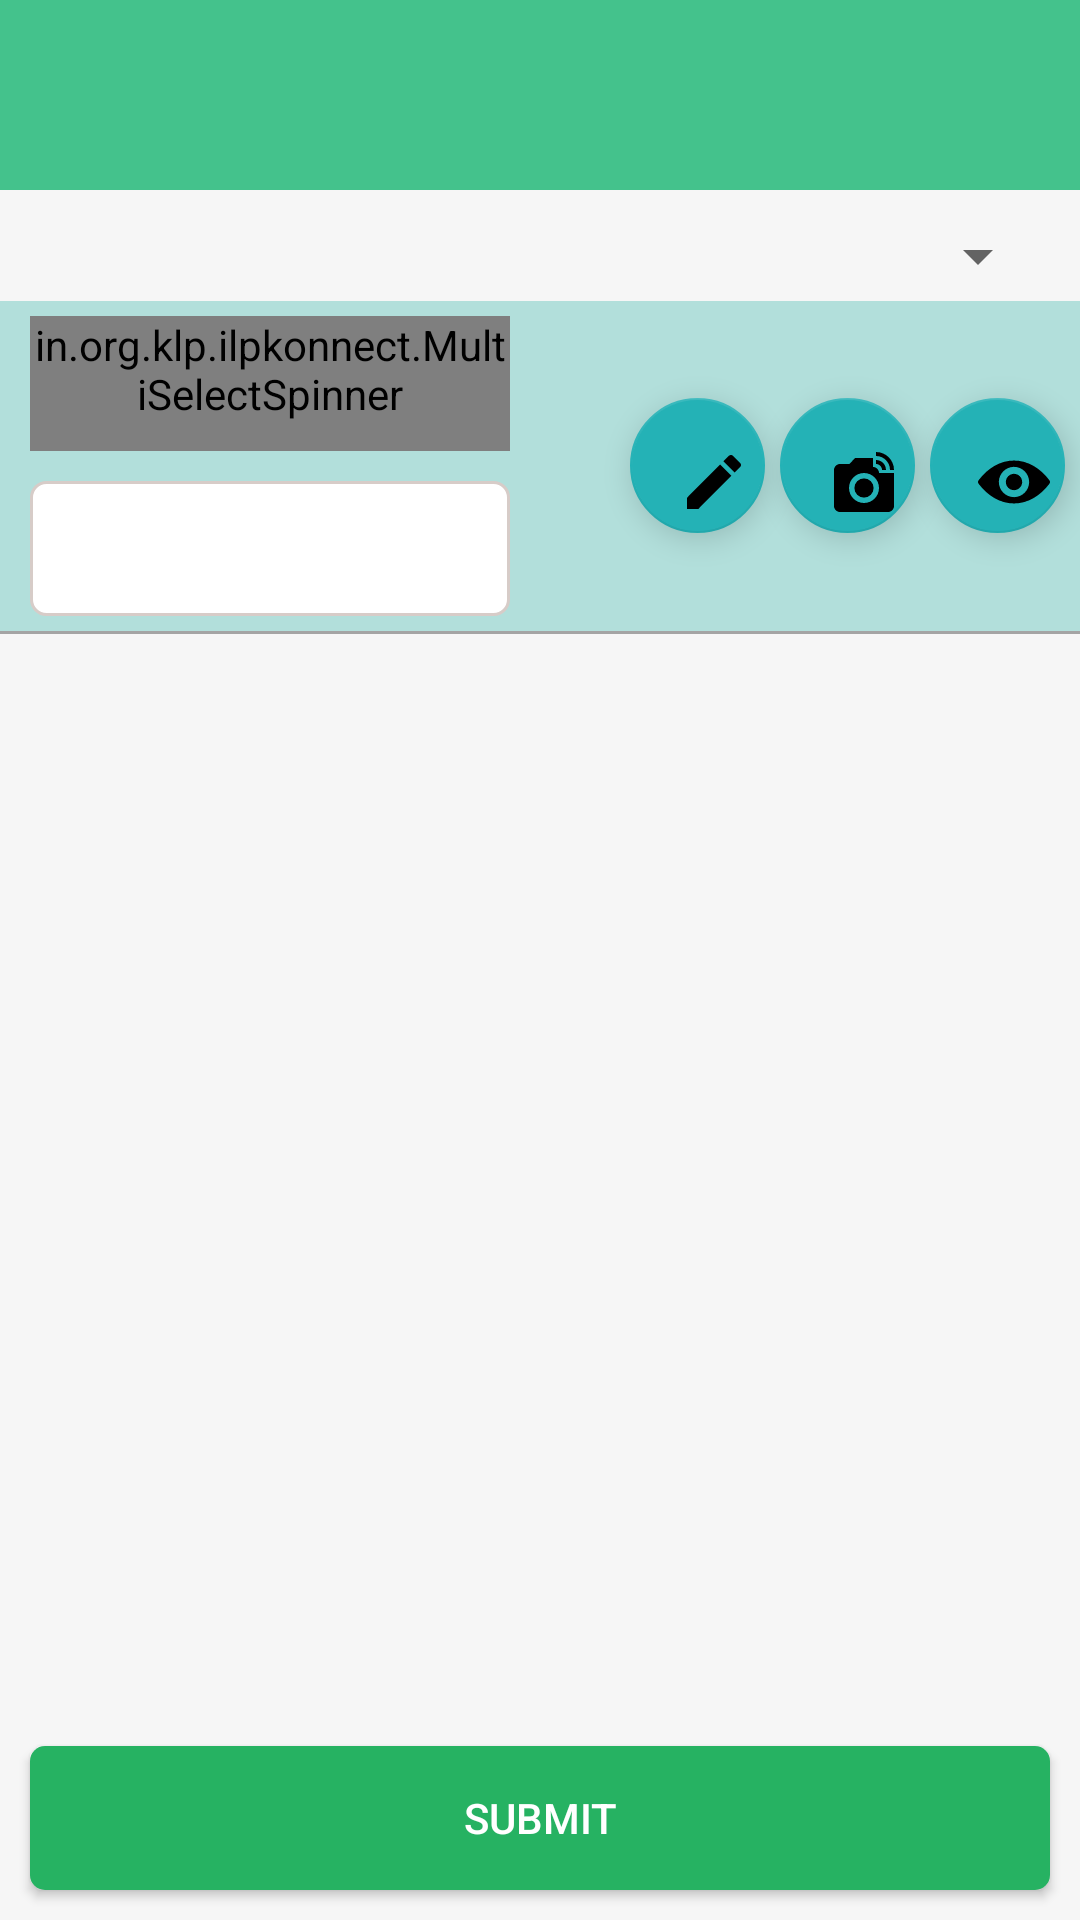

Named icons in this screenshot (1080px×1920px) and their bounding boxes, bbox=(x1, y1, x2, y2):
camera: bbox=(780, 398, 915, 533)
edit: bbox=(630, 398, 765, 533)
eye: bbox=(930, 398, 1065, 533)
